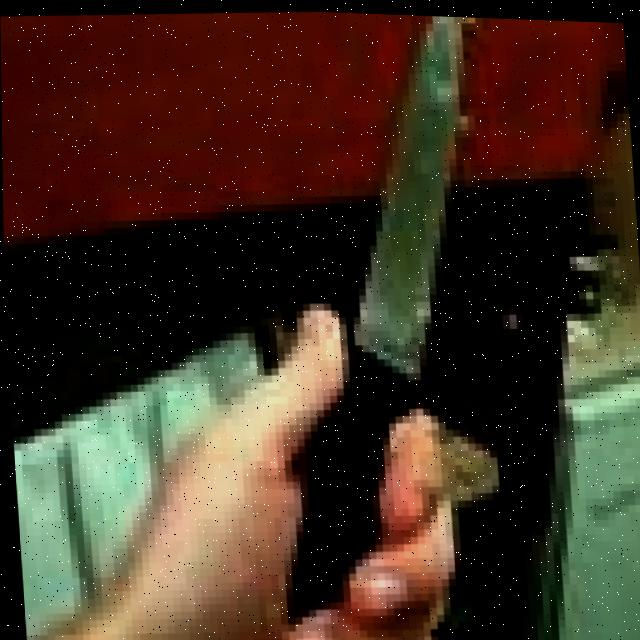knife: (317, 9, 509, 355)
